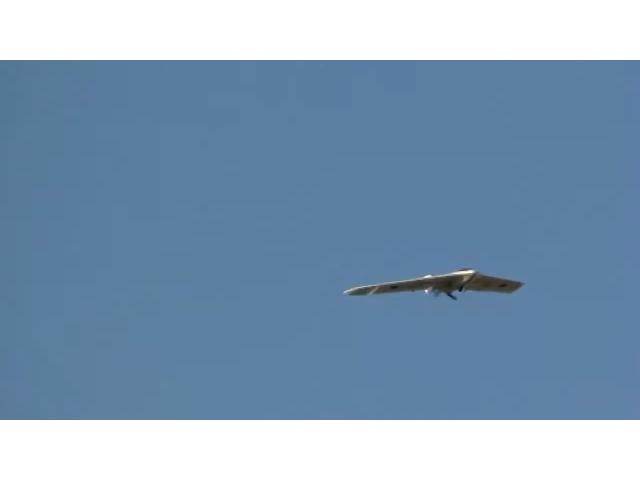Anti-Drone: (344, 270, 524, 300)
